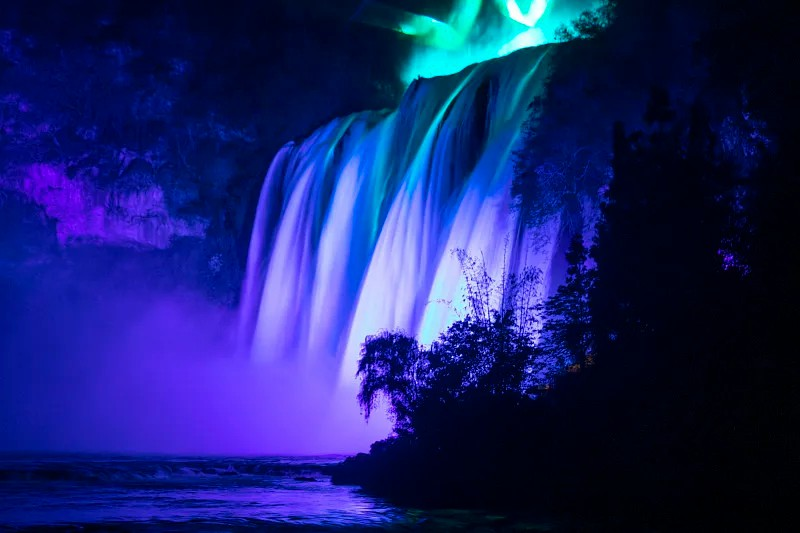Huangguoshu: (236, 49, 557, 456)
